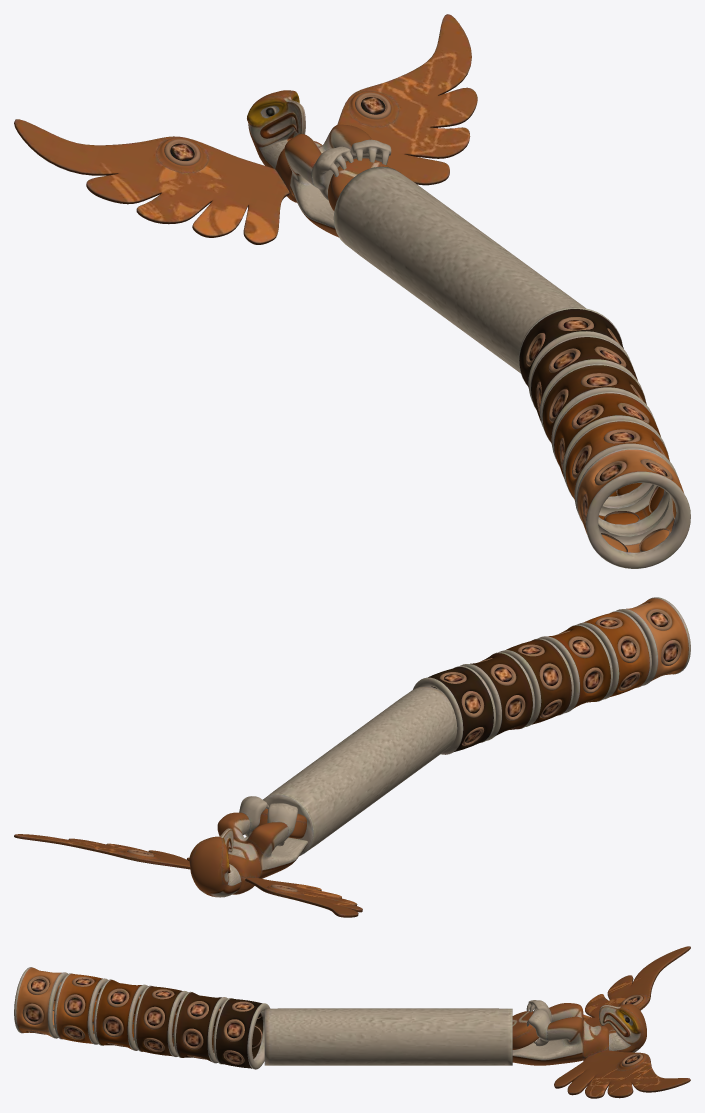
The model's file is totem_nordin_t1.glb.
The picture shows the model from 3 angles, top to bottom: view 1: azimuth 30°, elevation 25°; view 2: azimuth 150°, elevation 25°; view 3: azimuth 270°, elevation 25°; orthographic projection. The views are drawn at different scales.
Parts seen in each view (by area): view 1: Eagle_Eagle_0, Bands, Pole_Pole_0; view 2: Bands, Pole_Pole_0, Eagle_Eagle_0; view 3: Bands, Pole_Pole_0, Eagle_Eagle_0.
Boxes of the visible parts, left/top/right/bottom form: Eagle_Eagle_0: left=14, top=14, right=477, bottom=244; Bands: left=518, top=307, right=690, bottom=568; Pole_Pole_0: left=333, top=166, right=585, bottom=373; Bands: left=413, top=597, right=690, bottom=754; Pole_Pole_0: left=263, top=686, right=457, bottom=856; Eagle_Eagle_0: left=14, top=796, right=362, bottom=917; Bands: left=14, top=967, right=270, bottom=1069; Pole_Pole_0: left=264, top=1008, right=512, bottom=1065; Eagle_Eagle_0: left=512, top=946, right=690, bottom=1098.
Size of the model in its own units: 0.6918 by 0.1483 by 1.46.
2 materials, 2 textured.
